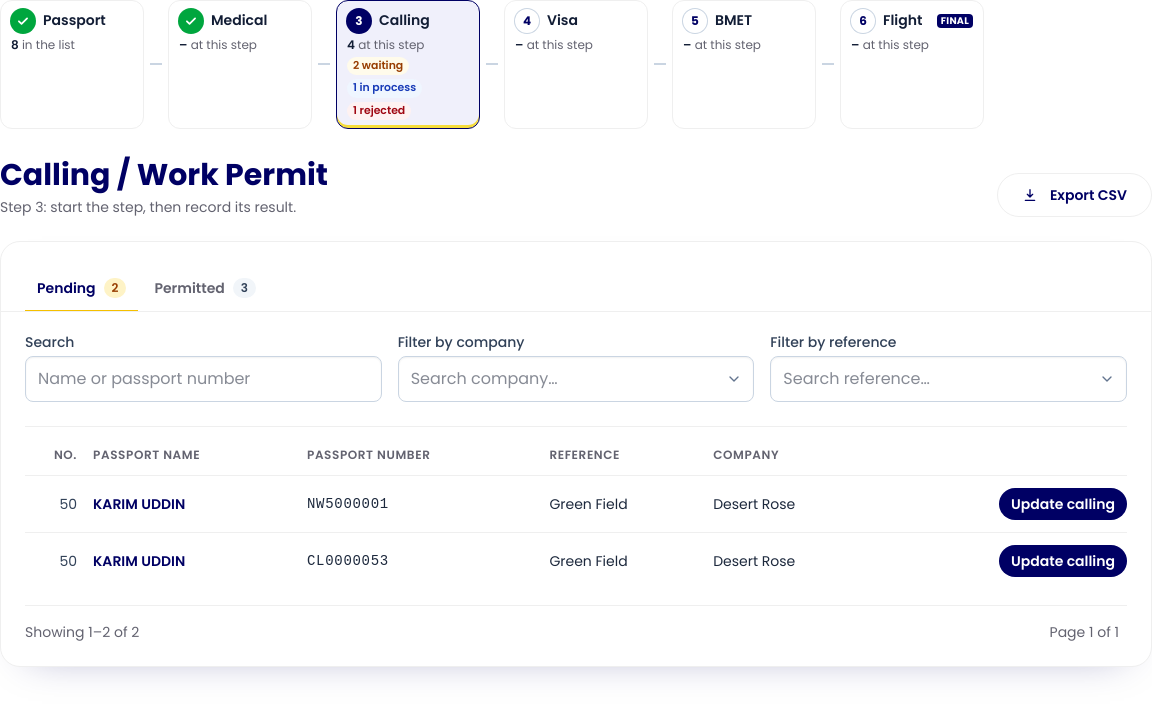
Scenario: Step pages (one per step) › Calling: Pending and Permitted › the dialogs are top-aligned modals › update: fixed near the top, centred, max 480px, scrolls inside, dim backdrop; focus on the first field
Click the button "Update calling" in the row of "CL0000053": x=1063, y=561 [999,545,1127,577]
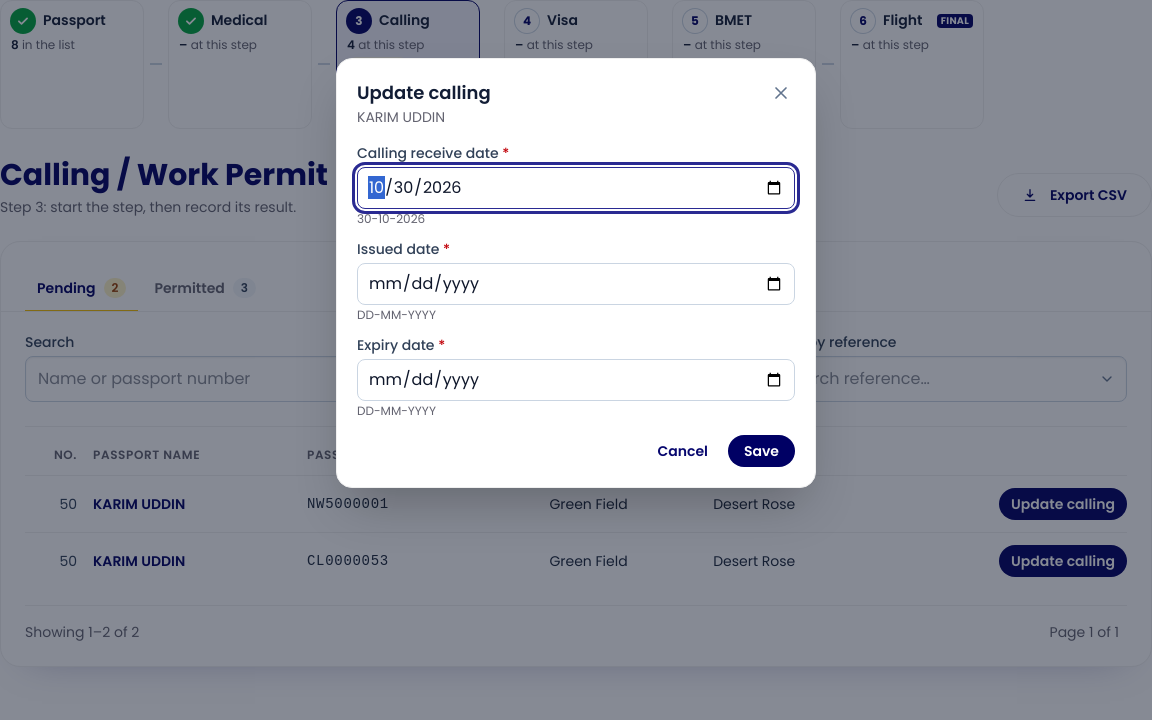
Expected: the heading "Update calling" is shown, [357,80,491,105]
